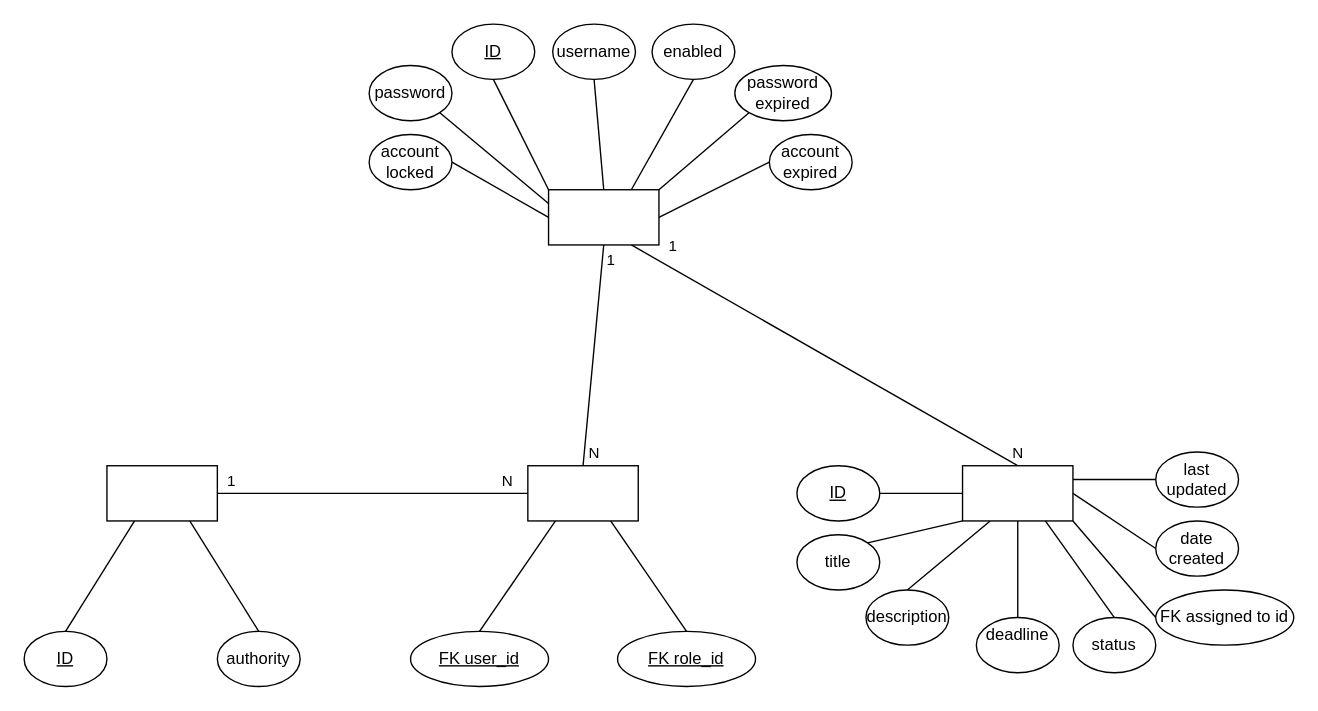
This 1318x711 diagram has some shape labels left out. The shapes that lost their labels are listed below. From the top down, each one's centre as x and y in pixels, then its label:
At pixel 603 216: "user".
At pixel 161 492: "role".
At pixel 582 492: "user-role".
At pixel 1017 492: "task".
